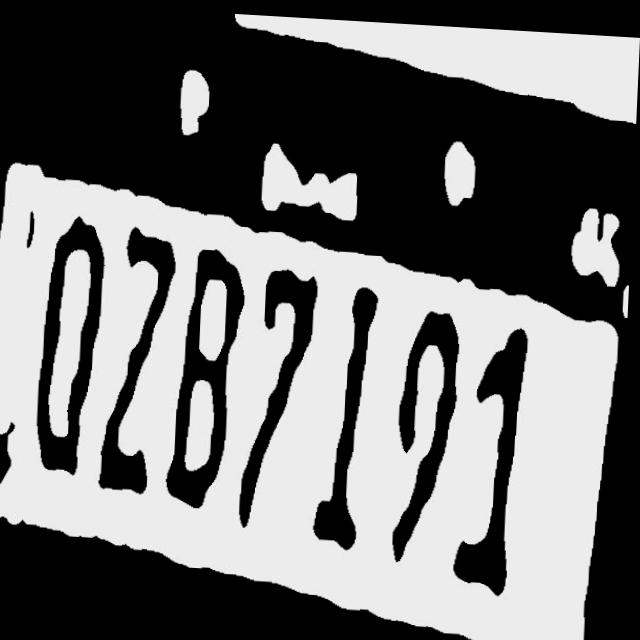1: (457, 313, 538, 594)
7: (243, 257, 324, 536)
9: (383, 296, 468, 572)
b: (169, 240, 249, 518)
i: (315, 276, 388, 554)
q: (34, 211, 111, 480)
z: (100, 216, 180, 502)
